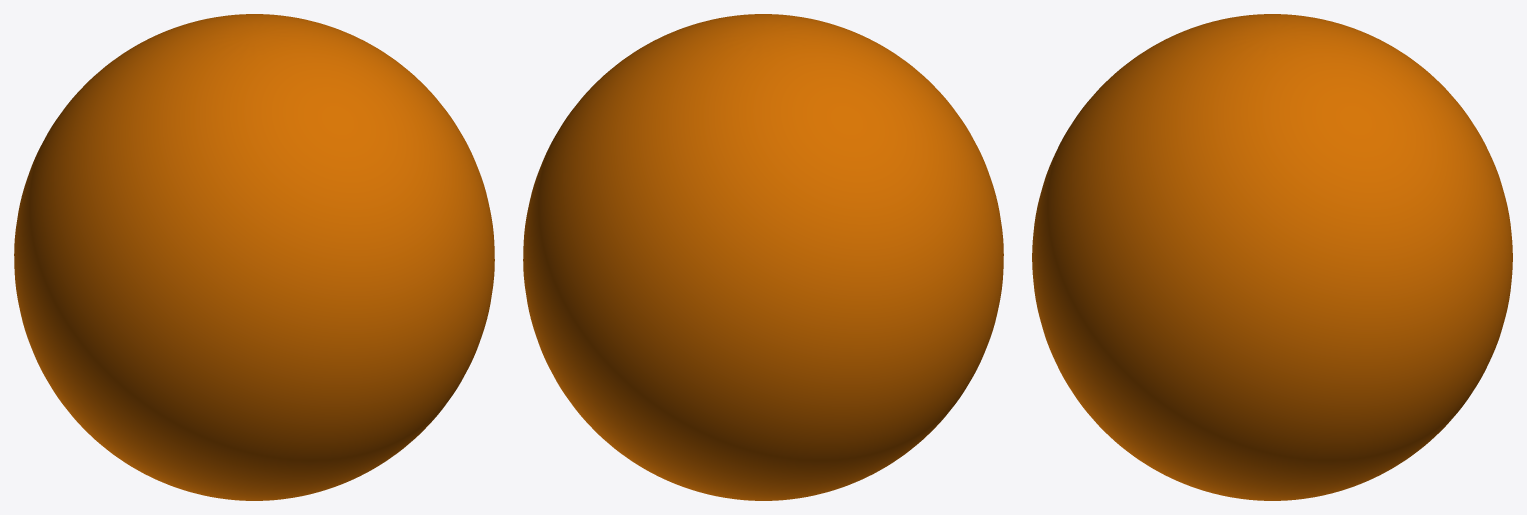
File: sphere_big.fbx
3 renders of one model, left to right at view 1: azimuth 30°, elevation 25°; view 2: azimuth 150°, elevation 25°; view 3: azimuth 270°, elevation 25°, orthographic.
Visible parts, largest first — view 1: pSphere2; view 2: pSphere2; view 3: pSphere2.
Part boxes in pixels (x1,y1,x2,y2): pSphere2: [14, 14, 494, 500]; pSphere2: [523, 14, 1003, 500]; pSphere2: [1032, 14, 1512, 500].
Size of the model in its own units: 1298 by 1321 by 1298.
